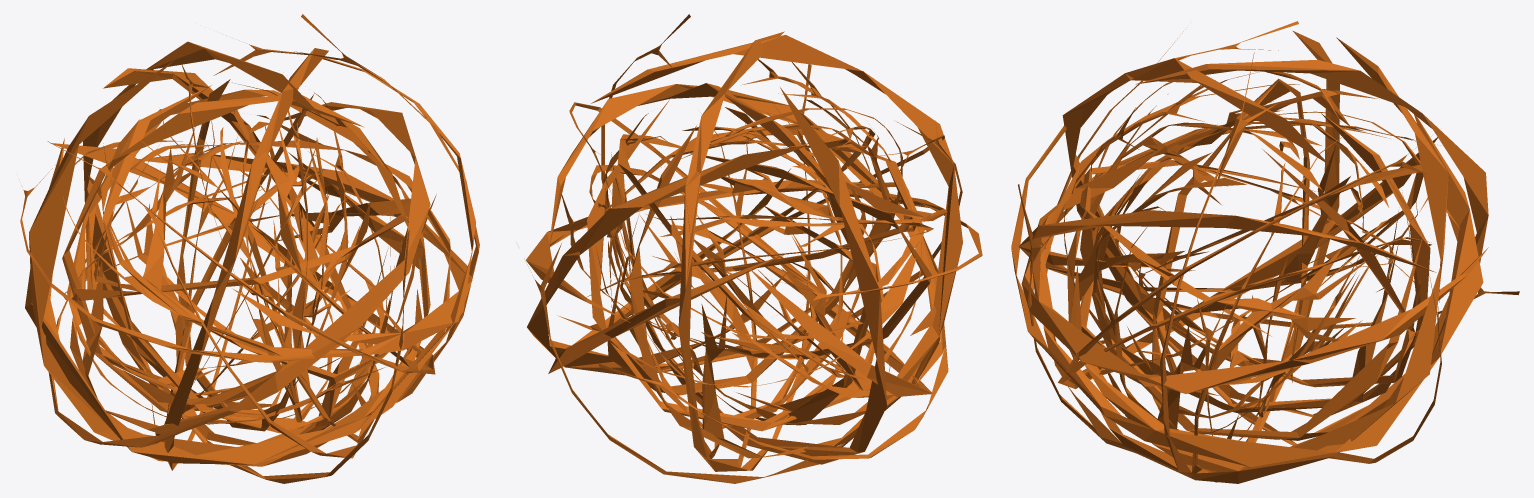
The model's file is Tumbleweed.FBX.
3 renders of one model, left to right at view 1: azimuth 30°, elevation 25°; view 2: azimuth 150°, elevation 25°; view 3: azimuth 270°, elevation 25°, orthographic. The views are drawn at different scales.
Parts seen in each view (by area): view 1: tumbleweed; view 2: tumbleweed; view 3: tumbleweed.
Boxes of the visible parts, x1,y1,x2,y2 form: tumbleweed: (20, 14, 479, 483); tumbleweed: (524, 14, 982, 483); tumbleweed: (1011, 21, 1519, 483).
Bounding box in the file's own units: 0.5378 × 0.5641 × 0.5761.
